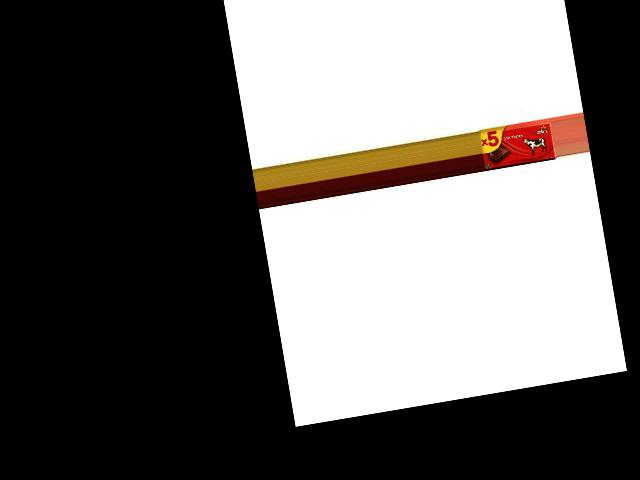chocolate: (478, 116, 557, 170)
